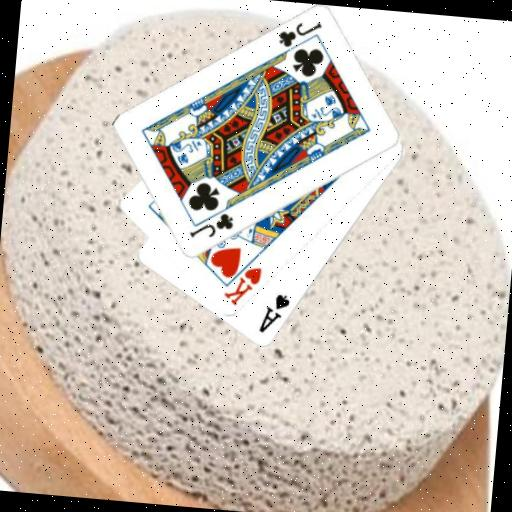AS: (256, 290, 293, 338)
JC: (275, 16, 325, 53), (186, 208, 237, 244)
KH: (220, 261, 264, 310)
